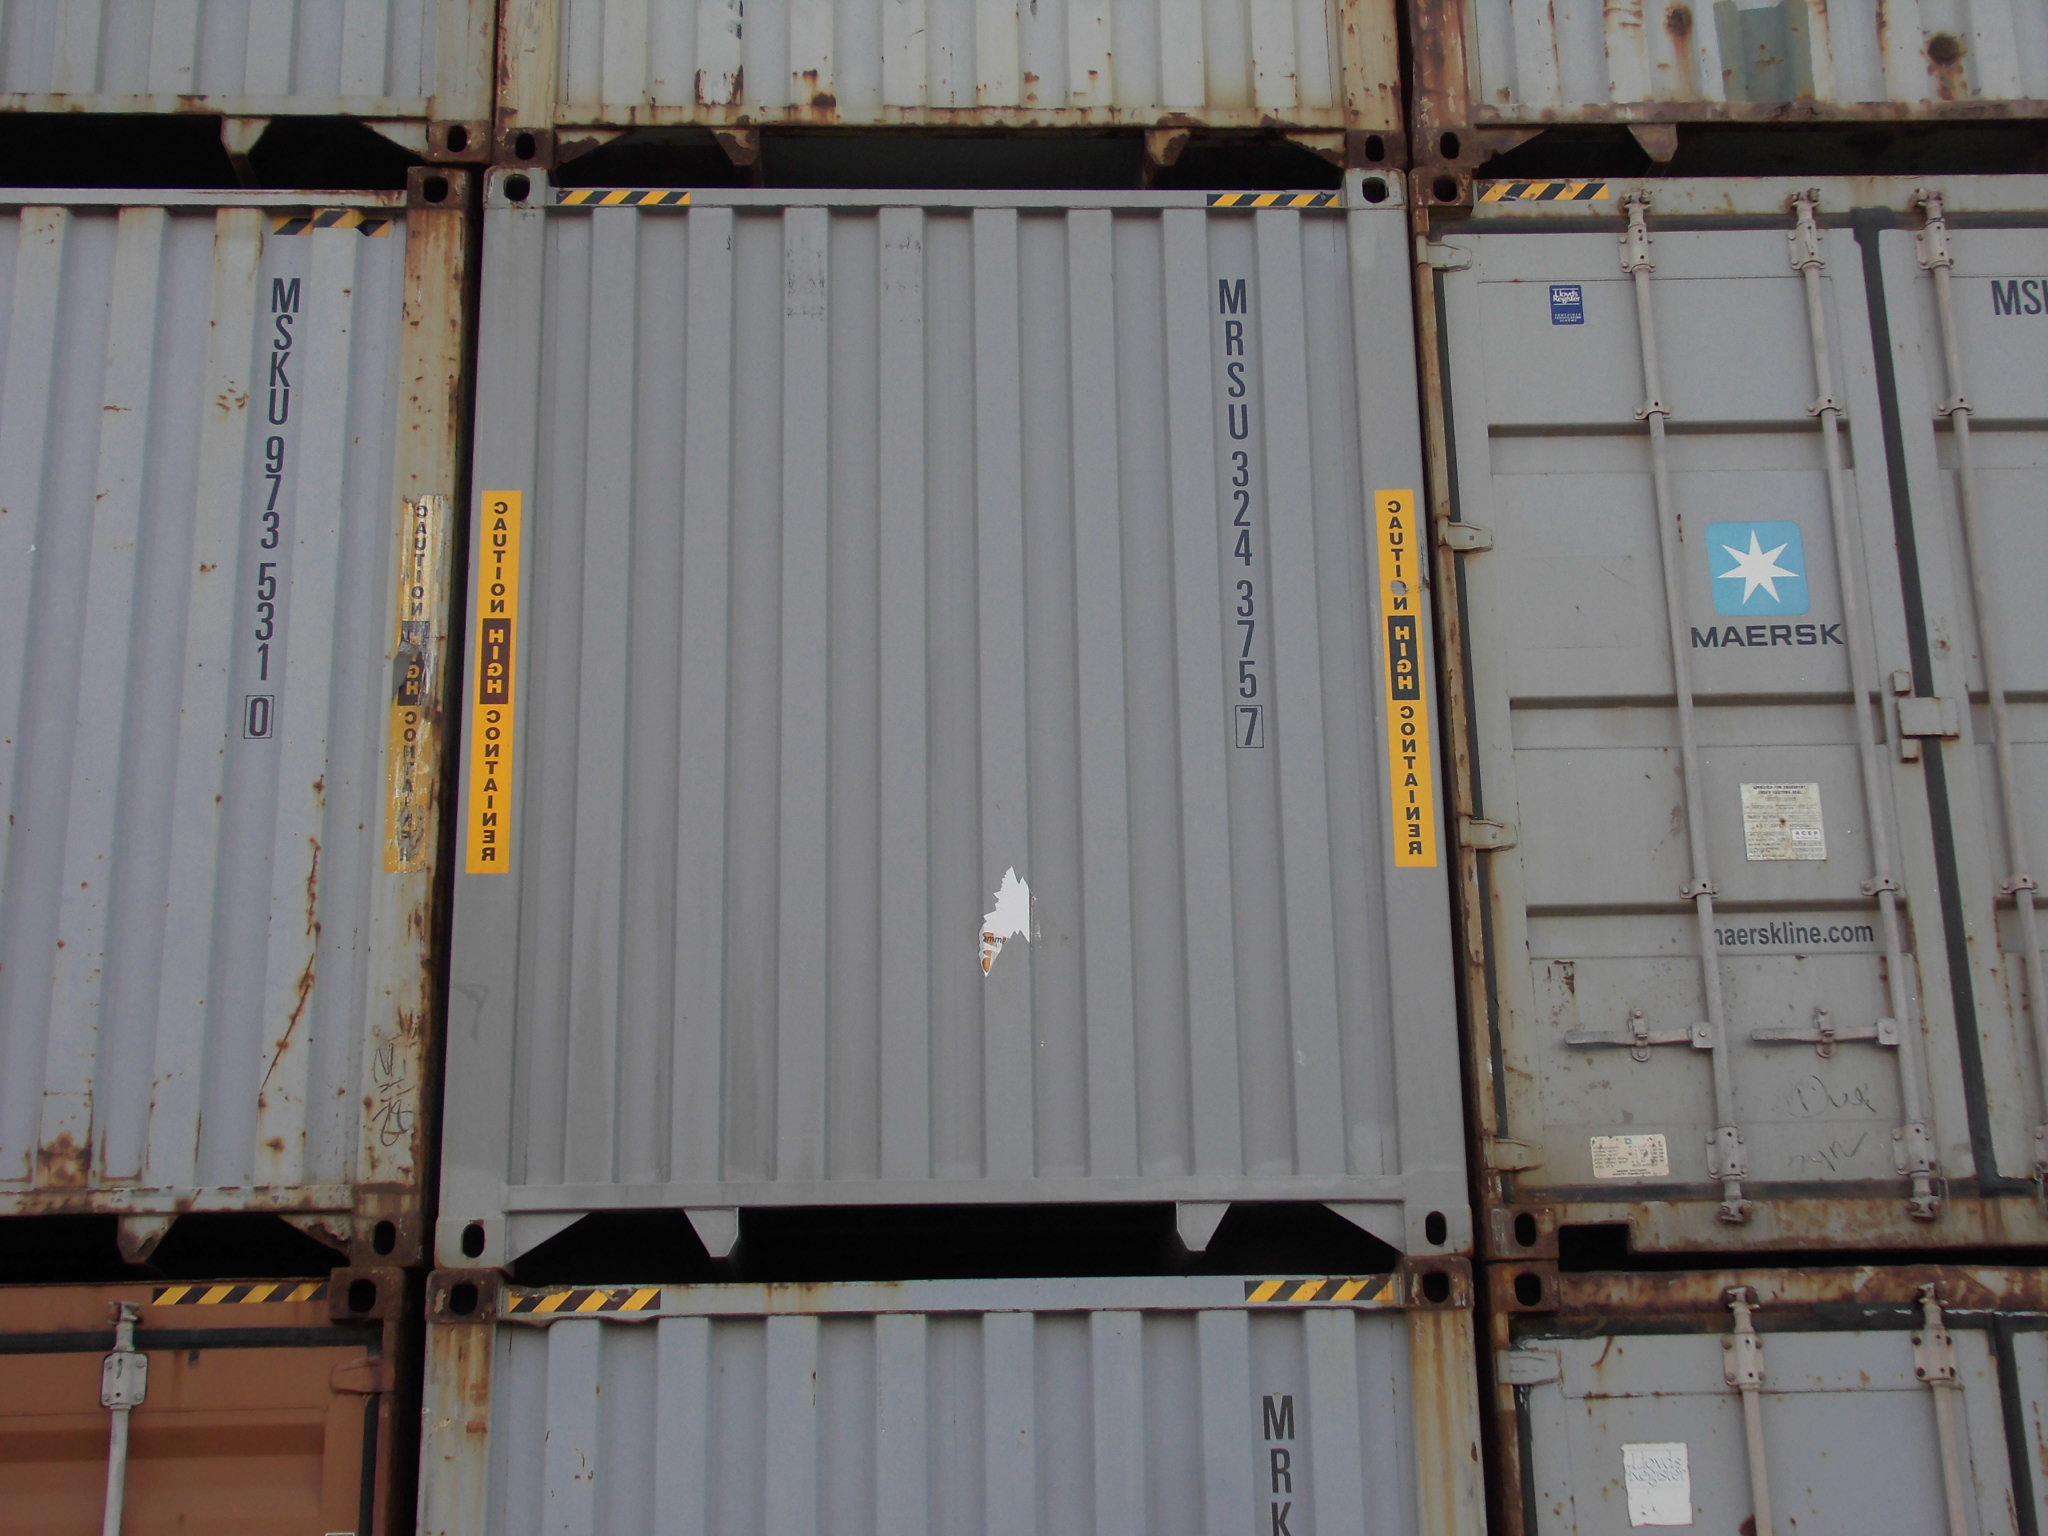container_door: (1435, 153, 2030, 1249)
container_no_door: (419, 165, 1476, 1260)
